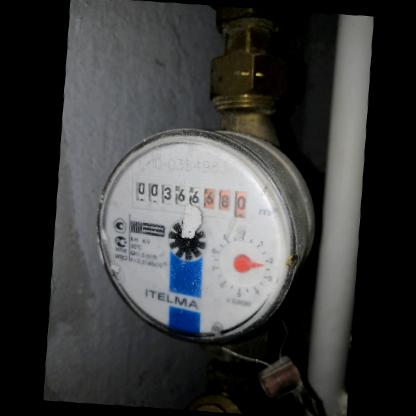digital_screen: (126, 172, 203, 218)
